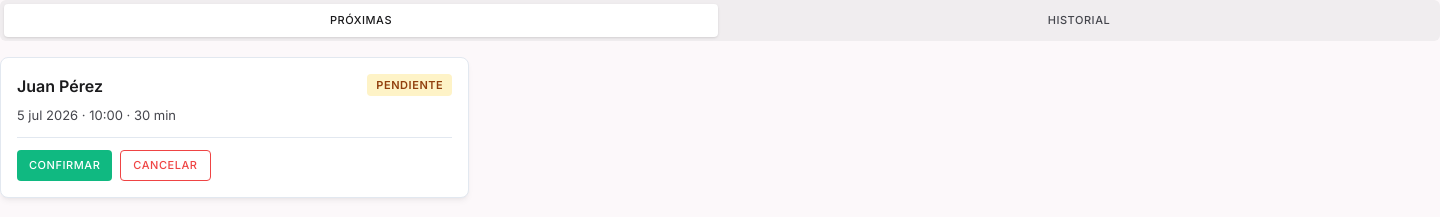
Scenario: CitaList › renders tabs and filters correctly
expect the heading "Juan Pérez" is shown: met, box [17, 76, 103, 96]
expect the text "María López" is not shown: met
Switch to historial tab
Click the button "Historial".
click(1079, 20)  # box [722, 4, 1436, 36]
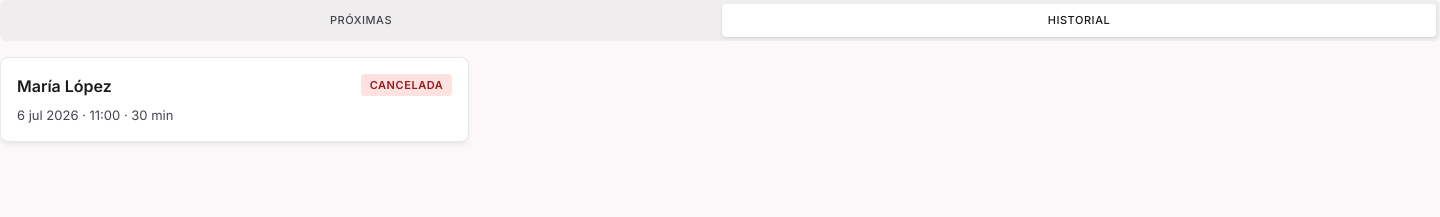
expect the heading "María López" is shown: met, box [17, 76, 112, 96]
expect the heading "Juan Pérez" is gone: met
